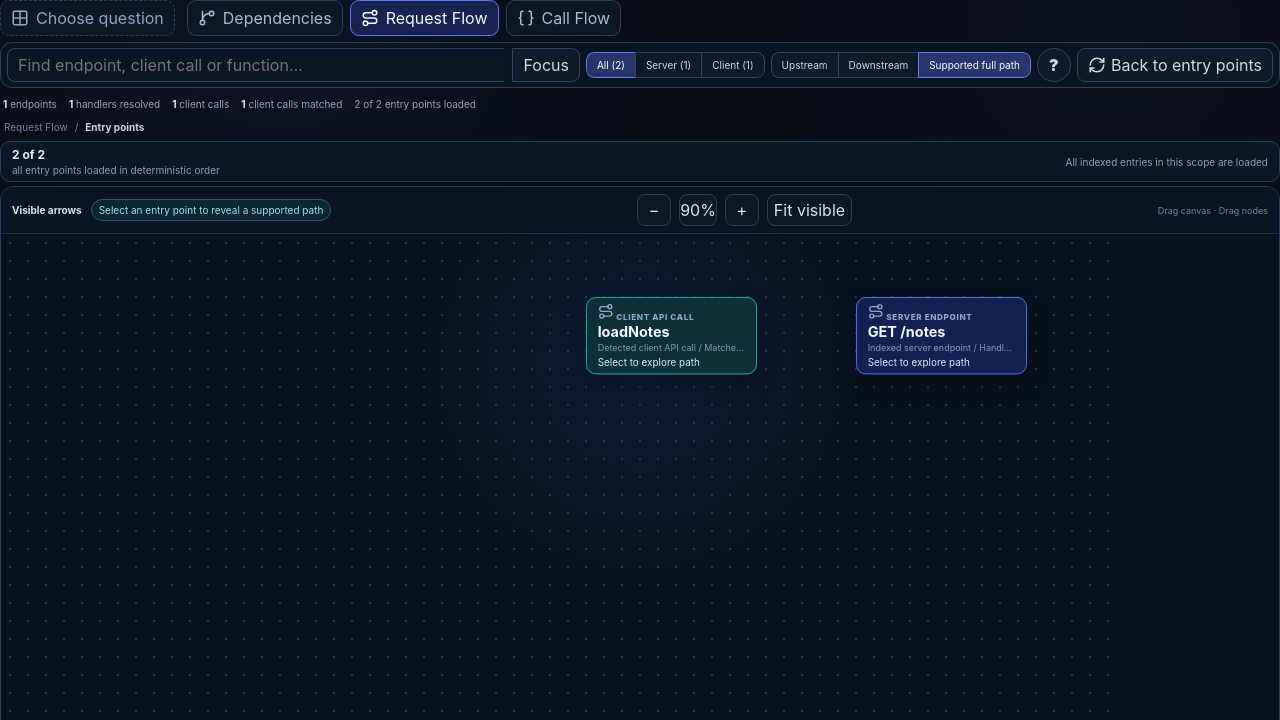
it: GraphPage progressive request-flow UX › opens one supported hop, inspects without expanding, then continues explicitly
Click the button "GET /notes". click: coordinates (942, 336)
box: [856,297,1027,374]
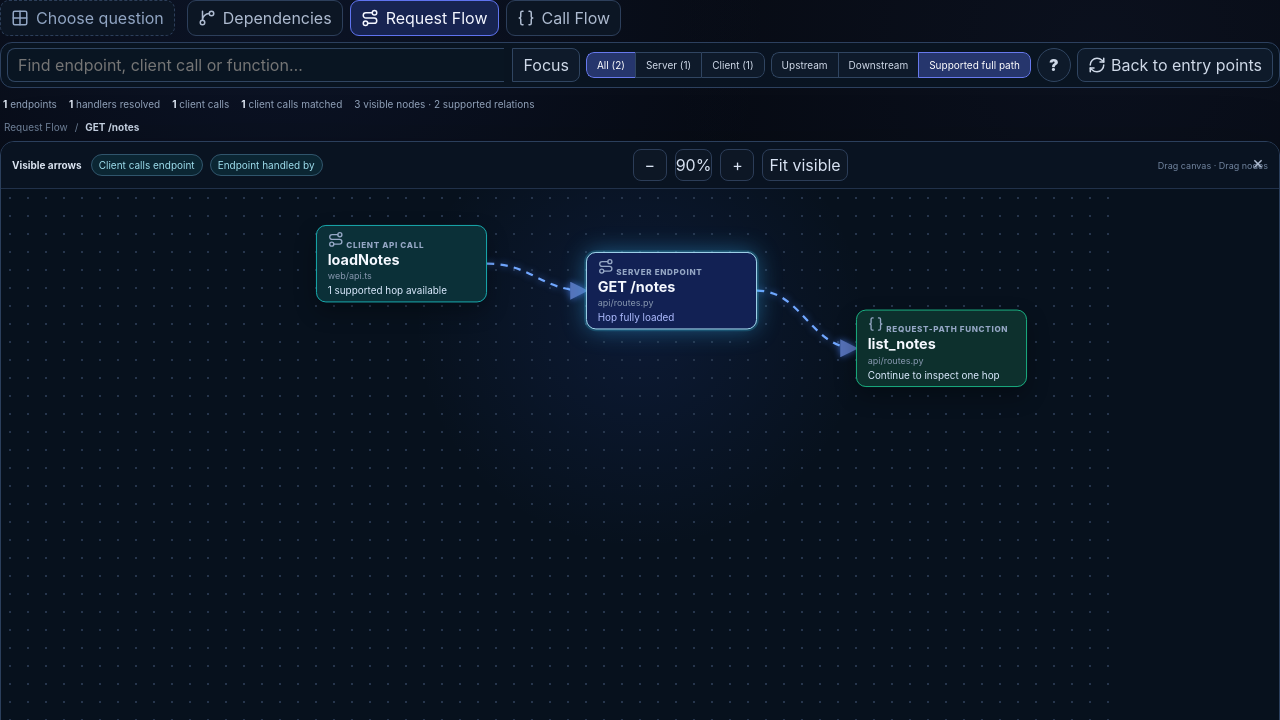
Now the button "list_notes" is shown
Click the button "list_notes". click: coordinates (942, 348)
box: [856,310,1027,387]
(page scrolled)
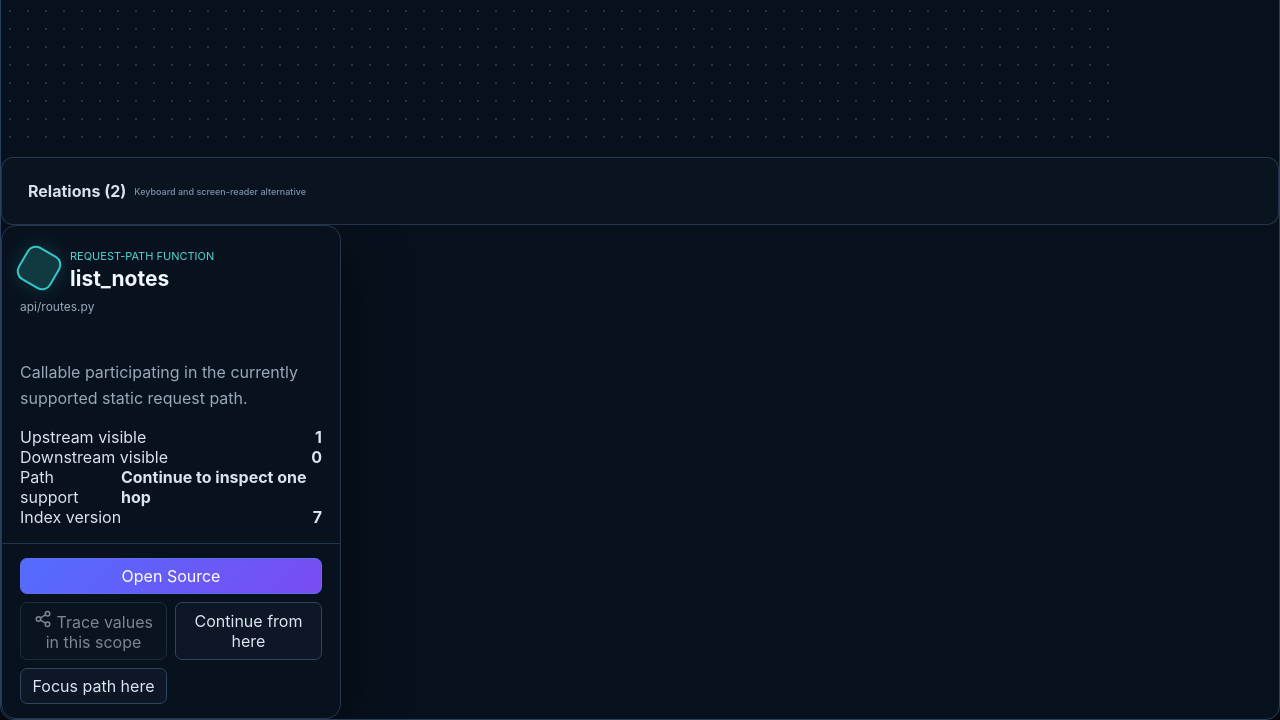
Click the button "Continue from here". click: coordinates (248, 631)
box: [175,602,322,660]
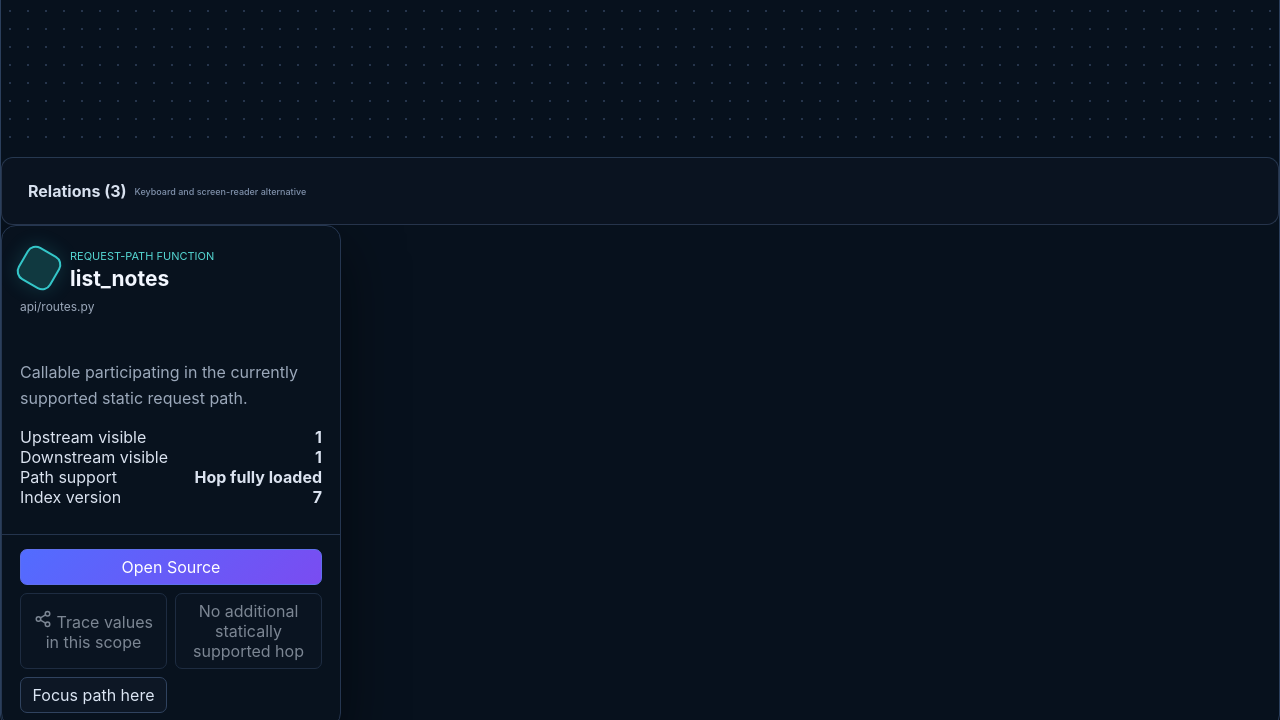
Now the heading "Relations (3)" is shown, box [28,181,306,201]
